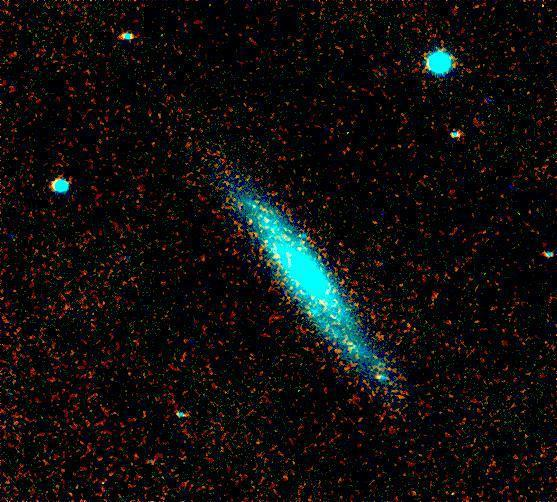star: (365, 318, 395, 348)
